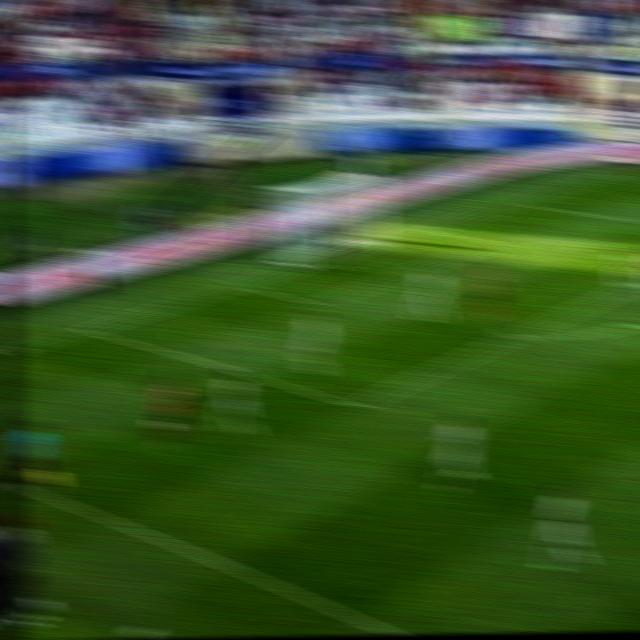bigarea_bottom_inner: (337, 388, 374, 420)
bigarea_bottom_outter: (73, 317, 109, 343)
bigarea_top_outter: (503, 193, 534, 210)
bottom_arc_area_intersection: (499, 322, 534, 348)
corner: (595, 164, 627, 180)
smallarea_bottom_inner: (299, 292, 331, 313)
smallarea_bottom_outter: (228, 273, 261, 296)
smallarea_top_inner: (480, 231, 514, 252)
smallarea_top_outter: (414, 220, 446, 238)
